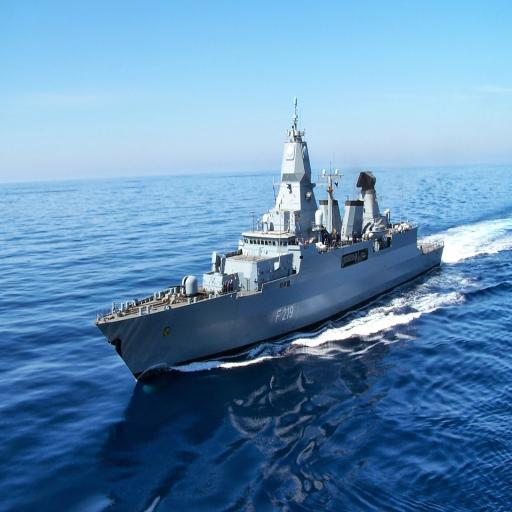Fragata: (1, 92, 297, 390)
